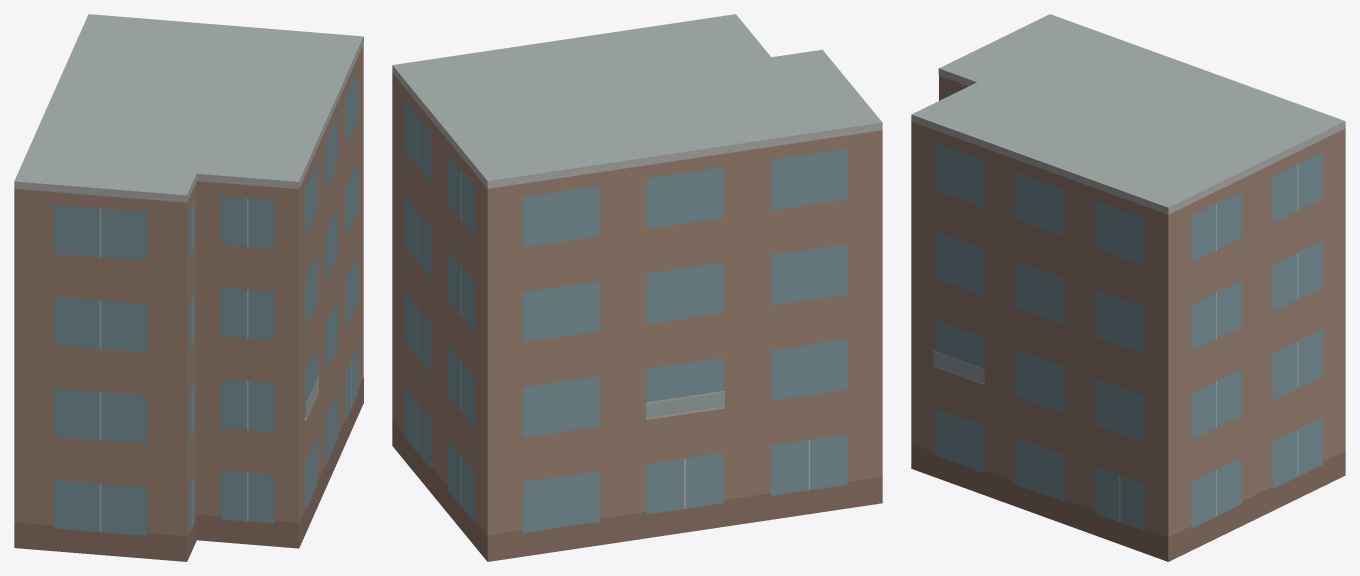
File: survey-upis-32807155.glb
3 views of the same model, side by side, from view 1: azimuth 30°, elevation 25°; view 2: azimuth 150°, elevation 25°; view 3: azimuth 270°, elevation 25° (orthographic). The views are drawn at different scales.
Visible parts, largest first — view 1: survey-upis-32807155.tmp; view 2: survey-upis-32807155.tmp; view 3: survey-upis-32807155.tmp.
Boxes of the visible parts, left/top/right/bottom form: survey-upis-32807155.tmp: left=14, top=14, right=363, bottom=561; survey-upis-32807155.tmp: left=392, top=14, right=882, bottom=561; survey-upis-32807155.tmp: left=911, top=14, right=1345, bottom=561.
Size of the model in its own units: 14.32 by 12.2 by 13.57.
